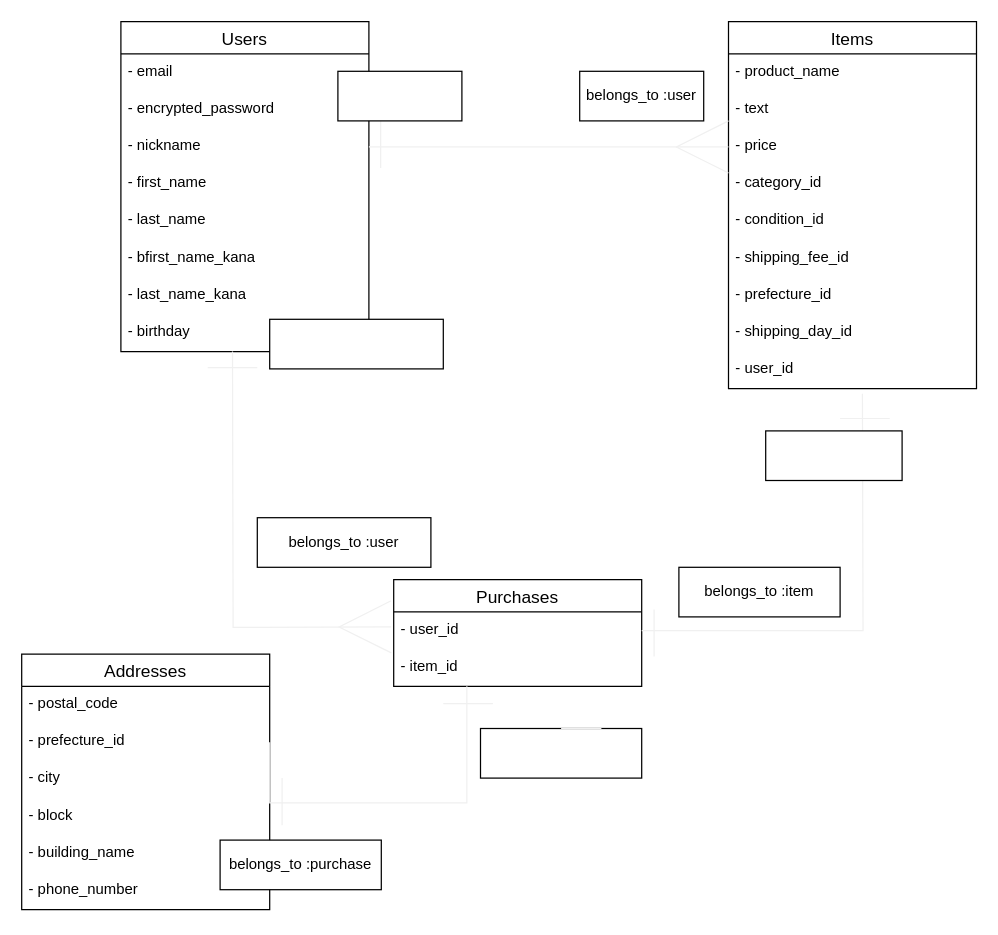
The diagram is 998 pixels wide and 935 high, and some of its shapes have lost their labels. Here are the shapes that lost their labels. From the top down, the centre of each, then its label:
[399,95]: has_many :items
[355,343]: has_many :purchases
[833,455]: has_one :purchase
[560,752]: has_one :delivery
